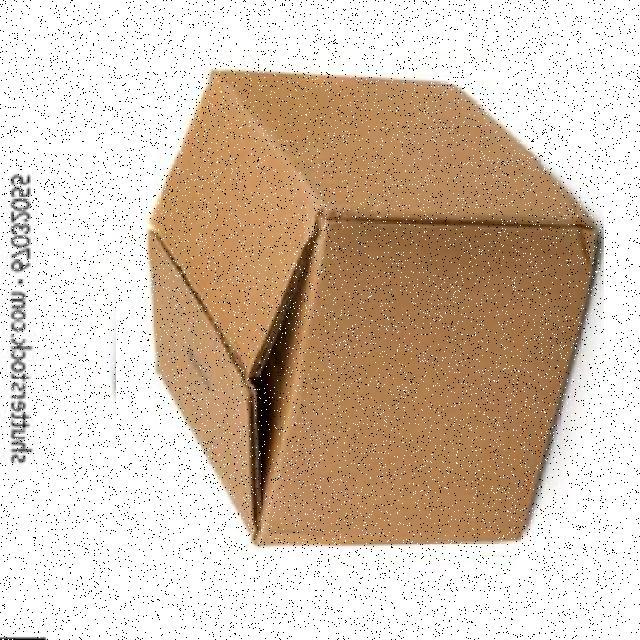defect: (116, 68, 604, 555)
